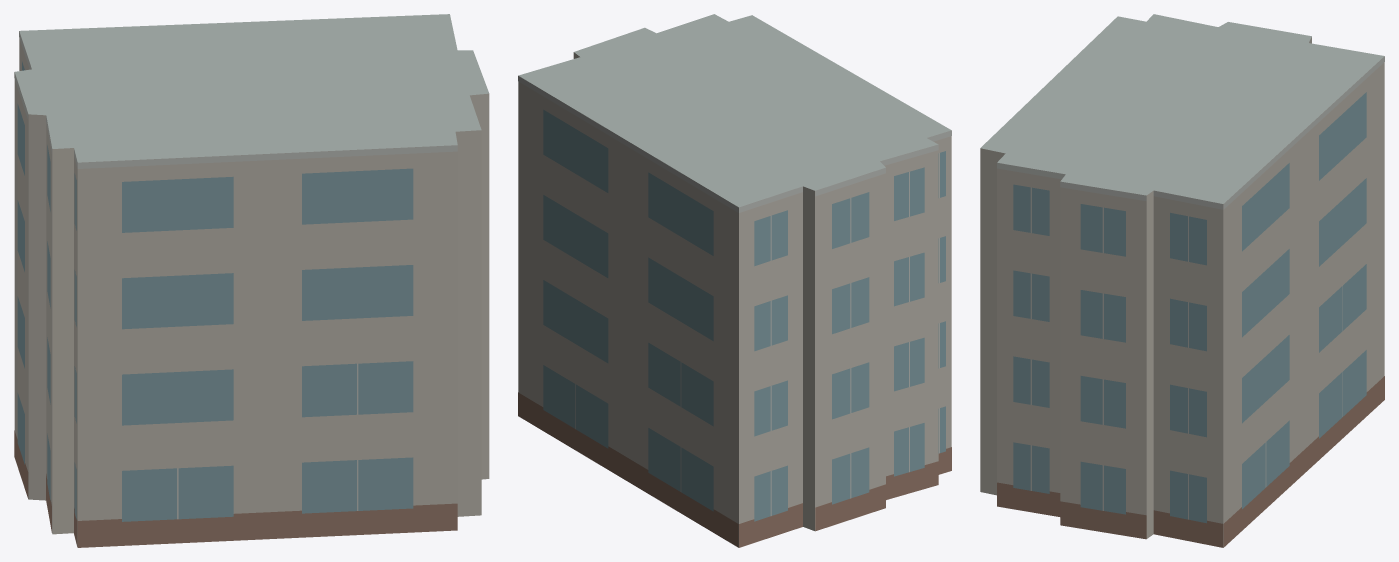
Rendered from survey-upis-32551347.glb.
3 renders of one model, left to right at view 1: azimuth 30°, elevation 25°; view 2: azimuth 150°, elevation 25°; view 3: azimuth 270°, elevation 25°, orthographic. The views are drawn at different scales.
Parts seen in each view (by area): view 1: survey-upis-32551347.tmp; view 2: survey-upis-32551347.tmp; view 3: survey-upis-32551347.tmp.
Boxes of the visible parts, x1=… form: survey-upis-32551347.tmp: x1=14, y1=14, x2=489, y2=547; survey-upis-32551347.tmp: x1=518, y1=14, x2=951, y2=547; survey-upis-32551347.tmp: x1=980, y1=14, x2=1384, y2=547.
Bounding box in the file's own units: 17.33 × 14.6 × 15.59.
